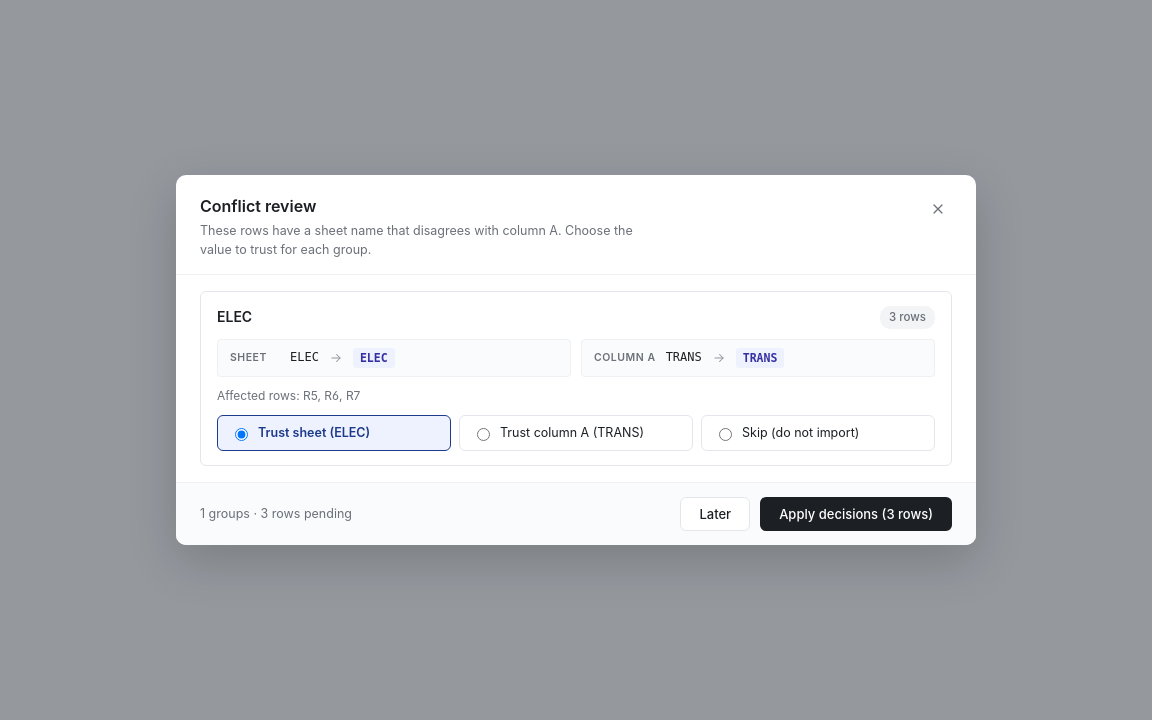
ConflictReviewModal › can switch to TRUST_A decision
Click the radio button labelled "Trust column A (TRANS)".
click(484, 434)  # box x1=477 y1=428 x2=490 y2=441
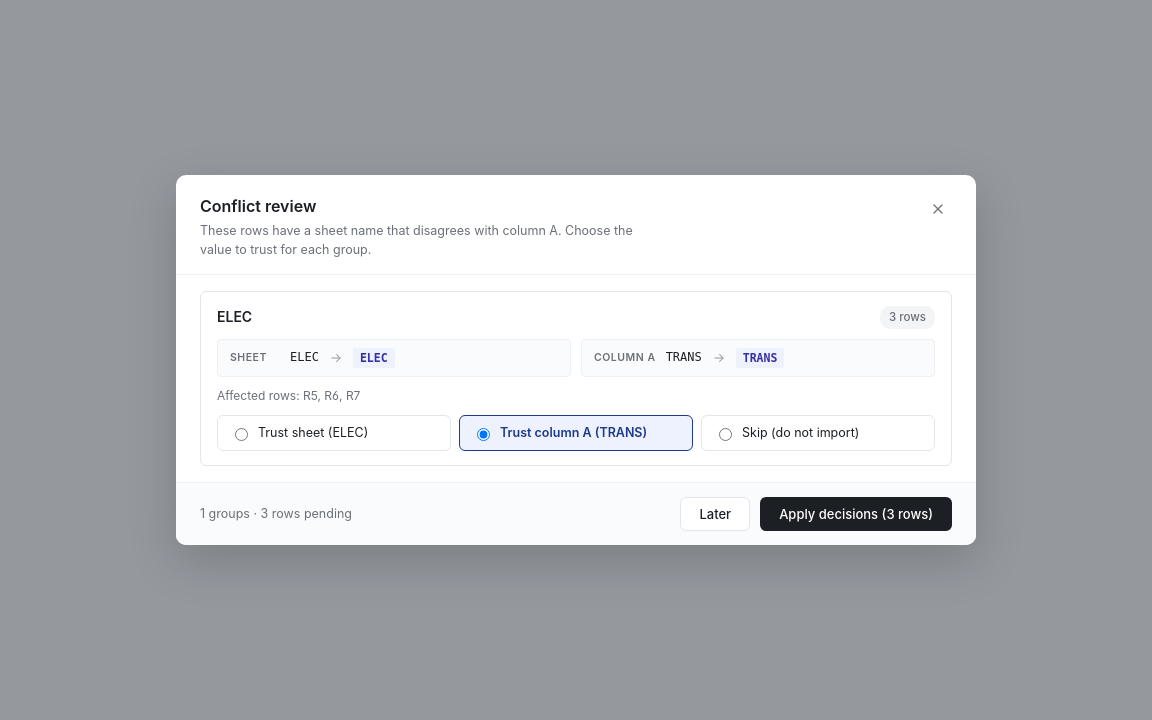
Now the radio button labelled "Trust column A (TRANS)" is checked, box x1=477 y1=428 x2=490 y2=441
Now the radio button labelled "Trust sheet (ELEC)" is not checked, box x1=235 y1=428 x2=248 y2=441
